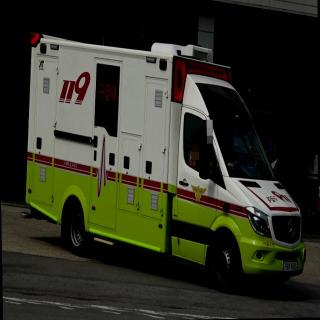Ambulance: (18, 20, 308, 300)
